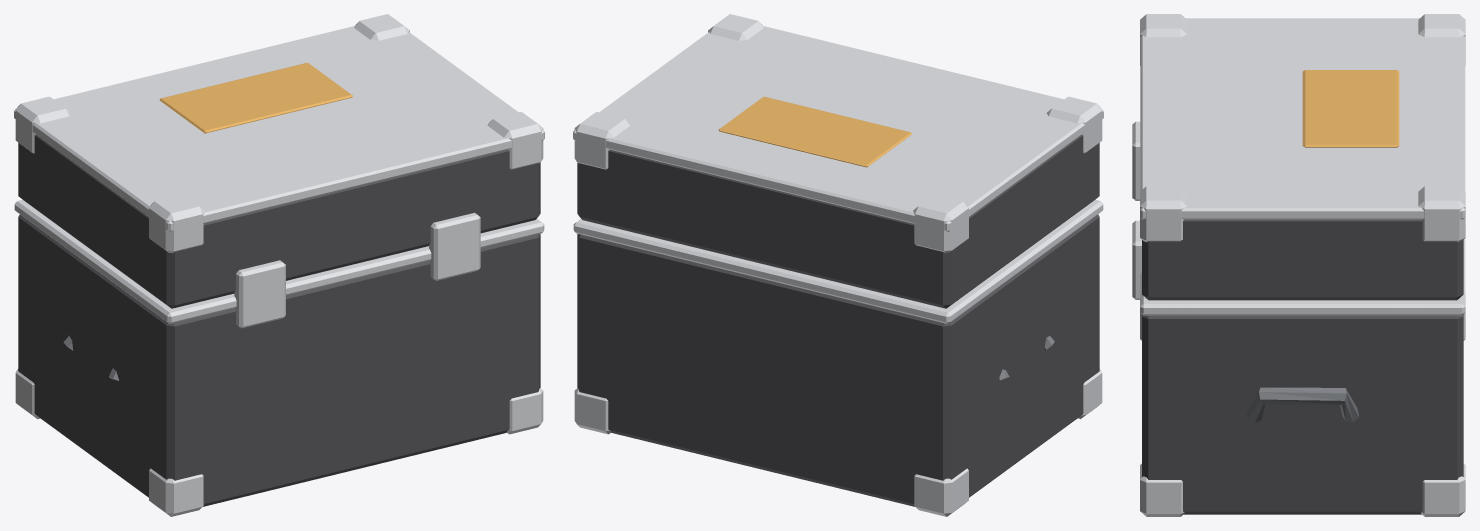
The model's file is music-recording-studio-and-instruments-flight-case-sma-09e011d4__33825.glb.
3 views of the same model, side by side, from view 1: azimuth 30°, elevation 25°; view 2: azimuth 150°, elevation 25°; view 3: azimuth 270°, elevation 25° (orthographic). The views are drawn at different scales.
Parts seen in each view (by area): view 1: flight-case-small, lid/metal, lid/gear, lid/accent; view 2: flight-case-small, lid/metal, lid/gear, lid/accent; view 3: flight-case-small, lid/metal, lid/gear, lid/accent.
Boxes of the visible parts, x1,y1,x2,y2 form: flight-case-small: [14, 199, 544, 516]; lid/metal: [14, 14, 544, 253]; lid/gear: [18, 134, 540, 308]; lid/accent: [159, 62, 352, 133]; flight-case-small: [573, 199, 1103, 516]; lid/metal: [573, 14, 1103, 253]; lid/gear: [577, 134, 1099, 308]; lid/accent: [718, 96, 911, 167]; flight-case-small: [1132, 121, 1465, 516]; lid/metal: [1140, 14, 1465, 242]; lid/gear: [1142, 219, 1463, 300]; lid/accent: [1302, 70, 1399, 147].
Bounding box in the file's own units: 0.6072 × 0.434 × 0.4145.
